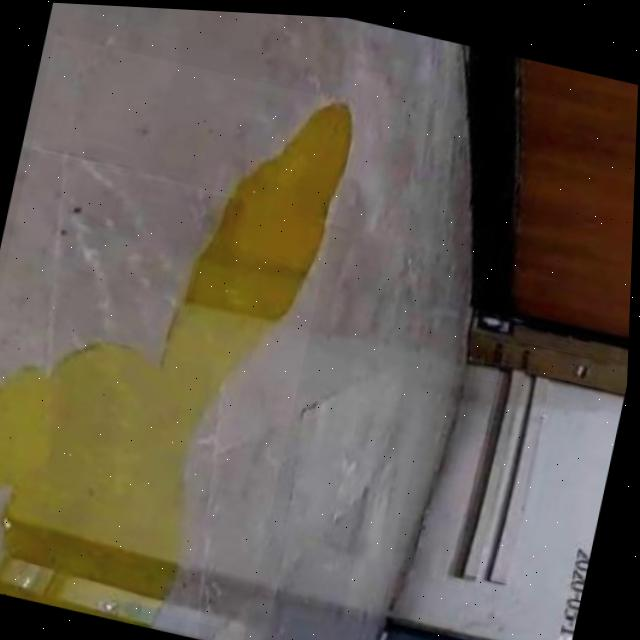spillage: (0, 96, 351, 626)
